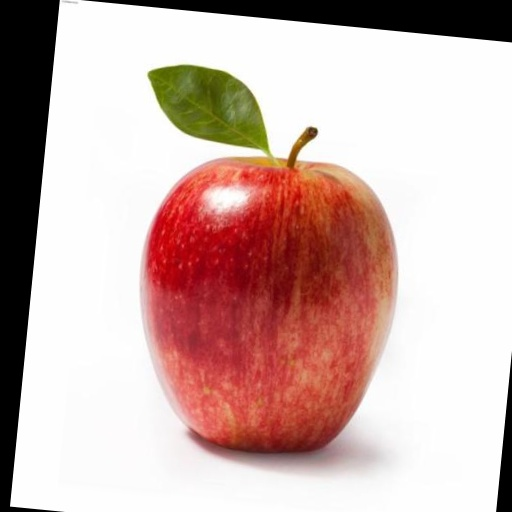fruit: (140, 129, 396, 452)
